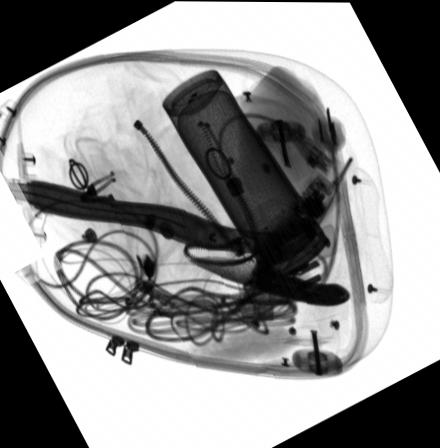Knife: (189, 255, 350, 304)
